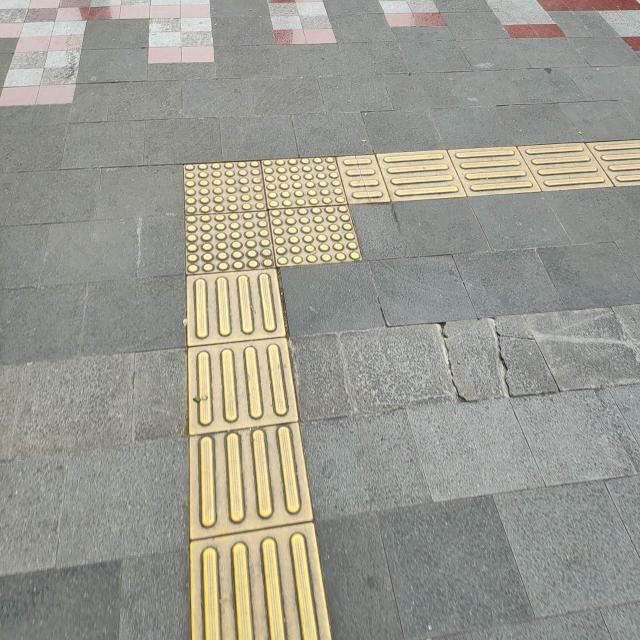kanan: (127, 126, 509, 310)
